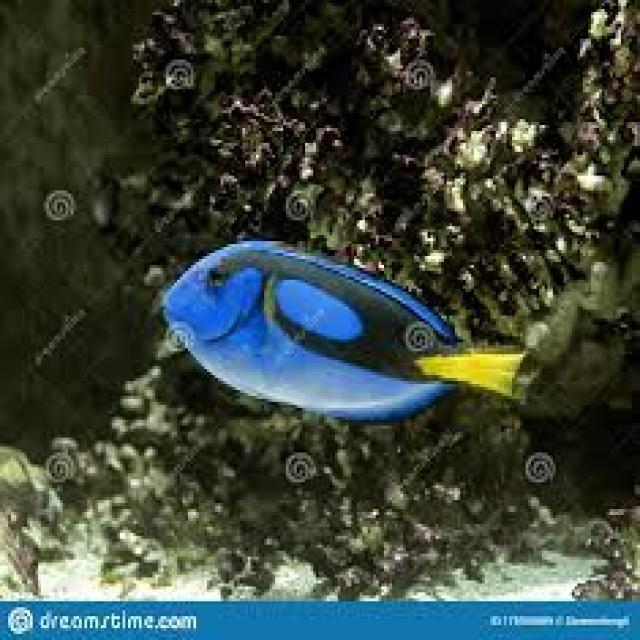TangFish: (165, 236, 533, 422)
